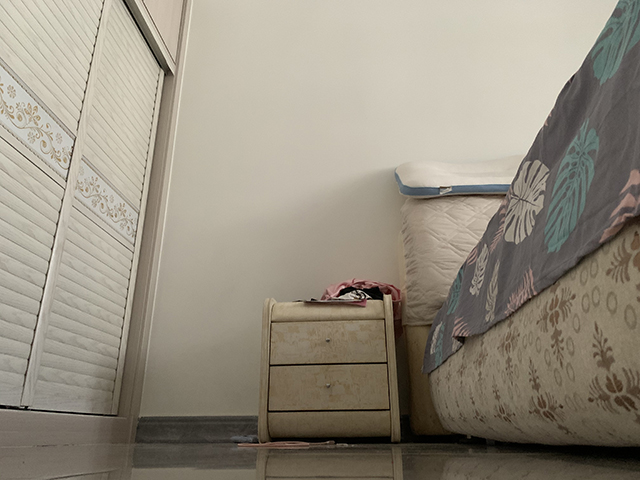bed: (391, 1, 640, 464)
cabinet: (1, 1, 195, 450), (258, 293, 402, 445)
